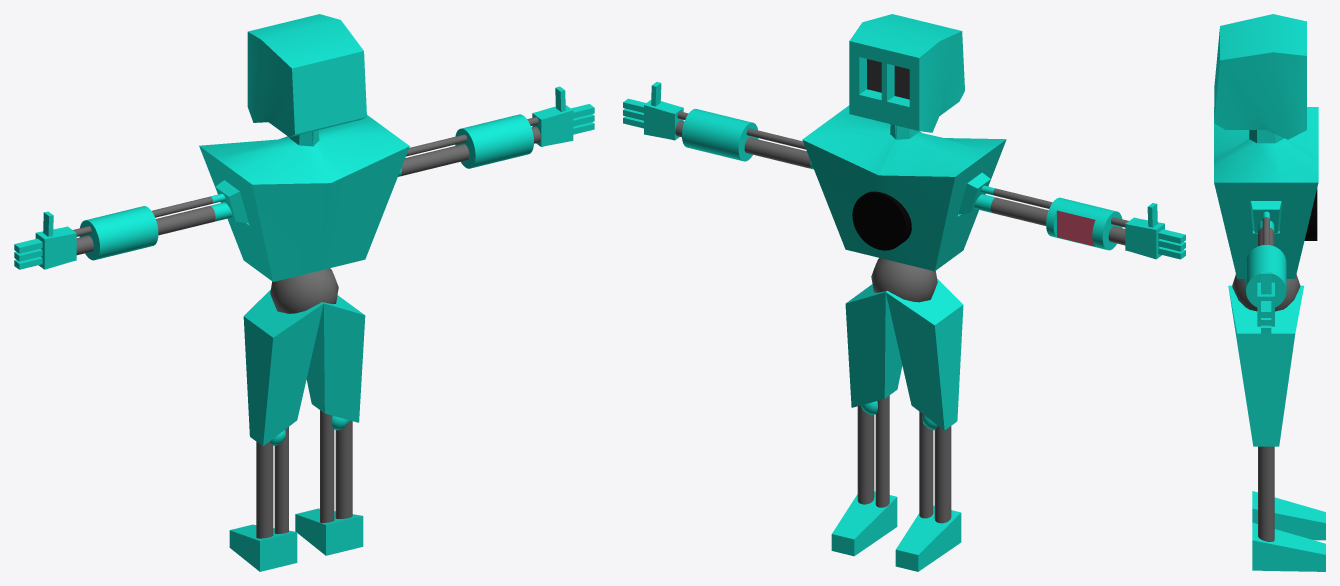
File: ROBOY.fbx
The picture shows the model from 3 angles, left to right: view 1: azimuth 30°, elevation 25°; view 2: azimuth 150°, elevation 25°; view 3: azimuth 270°, elevation 25°; orthographic projection. The views are drawn at different scales.
Parts seen in each view (by area): view 1: Cube; view 2: Cube; view 3: Cube.
Boxes of the visible parts, box(x1,y1,x2,y2) form: Cube: box(14, 14, 594, 571); Cube: box(623, 14, 1185, 571); Cube: box(1214, 14, 1325, 571).
Bounding box in the file's own units: 633 × 553 × 109.
